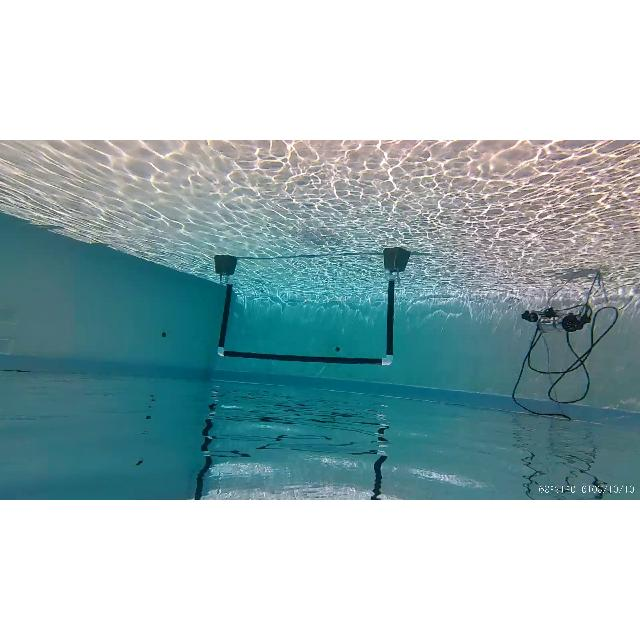prequal gate: (217, 274, 397, 364)
prequal gate leg l: (380, 248, 410, 370)
prequal gate leg r: (212, 255, 238, 358)
